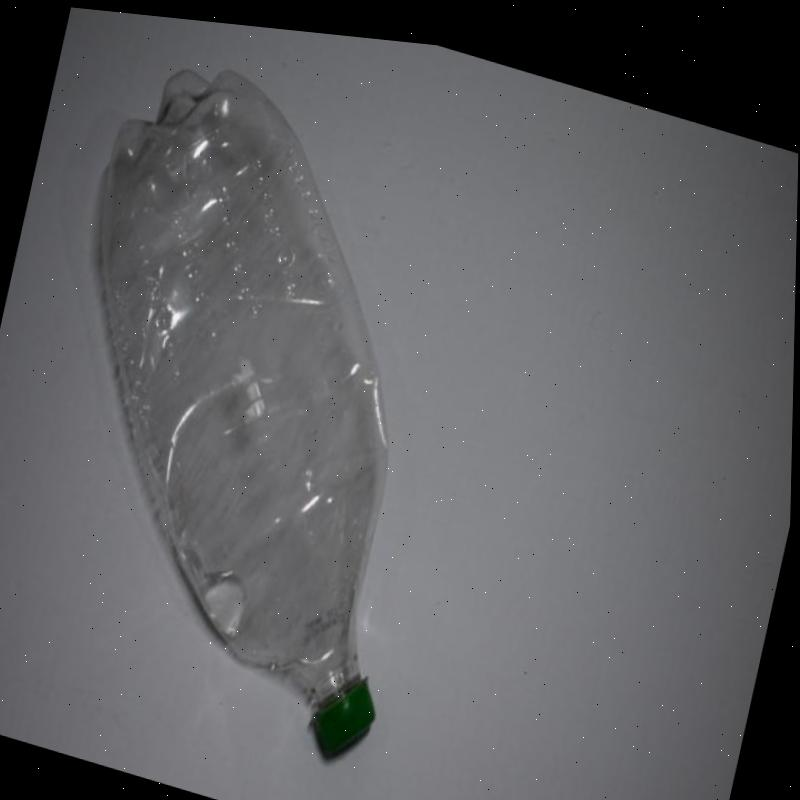botella: (3, 32, 501, 771)
